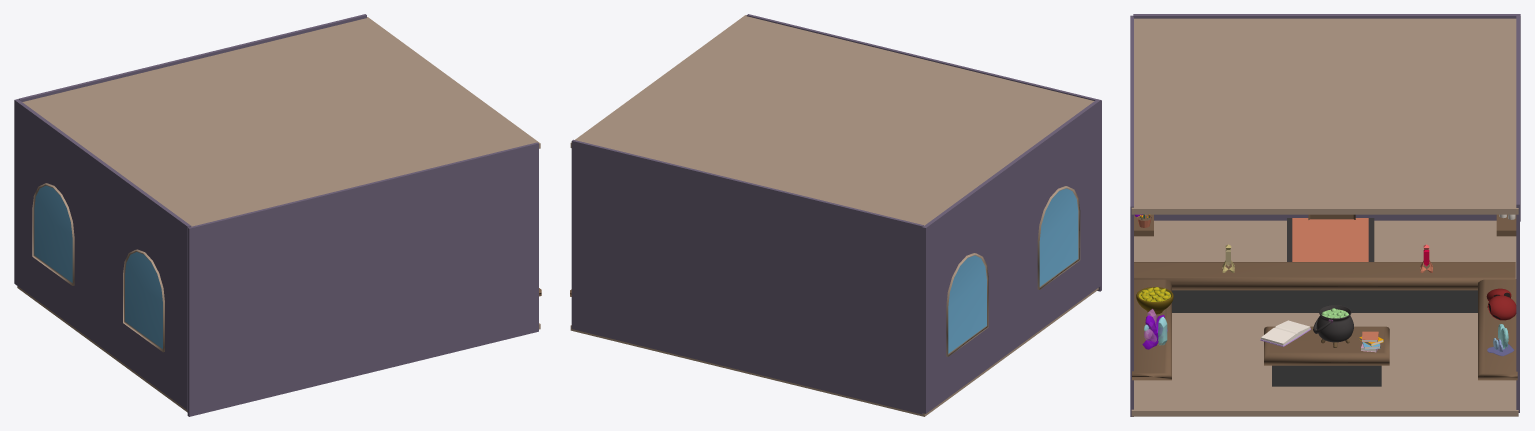
The model's file is witch house2.fbx.
The picture shows the model from 3 angles, left to right: view 1: azimuth 30°, elevation 25°; view 2: azimuth 150°, elevation 25°; view 3: azimuth 270°, elevation 25°; orthographic projection. The views are drawn at different scales.
Visible parts, largest first — view 1: Walls, Floor1, Windowtest1, Windowtest; view 2: Walls, Floor1, Windowtest, Windowtest1, Floor; view 3: Floor1, Floor, FCounter, Walls, FCounterBase, pCube1, IslandCounter, LCounter1, LCounter, IslandBase, Cauldron, PotionBook (+4 smaller).
Part boxes in pixels (box(x1,y1,x2,y2)): Walls: box(14, 14, 538, 416); Floor1: box(22, 17, 540, 226); Windowtest1: box(32, 183, 74, 285); Windowtest: box(123, 249, 164, 352); Walls: box(571, 14, 1101, 414); Floor1: box(570, 15, 1094, 225); Windowtest: box(1037, 186, 1080, 289); Windowtest1: box(946, 253, 988, 356); Floor: box(570, 288, 1098, 416); Floor1: box(1131, 18, 1518, 214); Floor: box(1131, 220, 1518, 416); FCounter: box(1134, 262, 1515, 290); Walls: box(1130, 14, 1520, 416); FCounterBase: box(1172, 290, 1477, 312); pCube1: box(1287, 218, 1374, 261); IslandCounter: box(1264, 326, 1389, 365); LCounter1: box(1478, 279, 1517, 380); LCounter: box(1132, 279, 1171, 380); IslandBase: box(1272, 365, 1381, 386); Cauldron: box(1313, 305, 1353, 347); PotionBook: box(1260, 320, 1310, 346).
Bounding box in the file's own units: 69.97 × 35.75 × 59.49.
